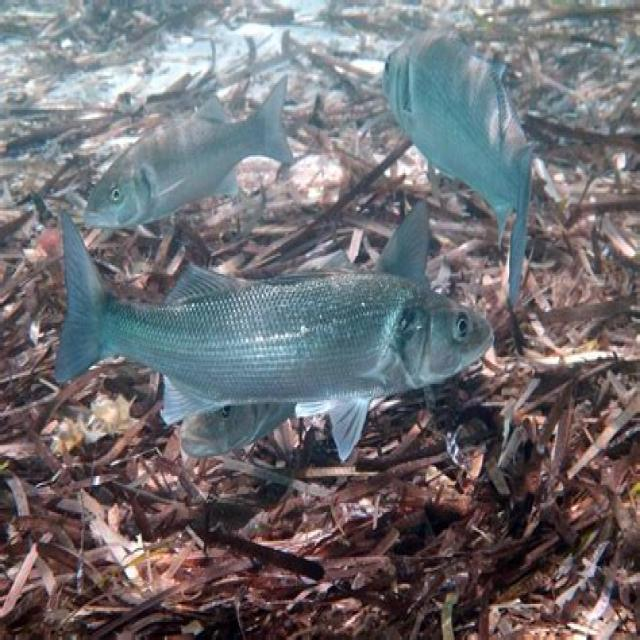Healthy Fish: (41, 213, 494, 467), (362, 37, 590, 303), (85, 70, 314, 232)
